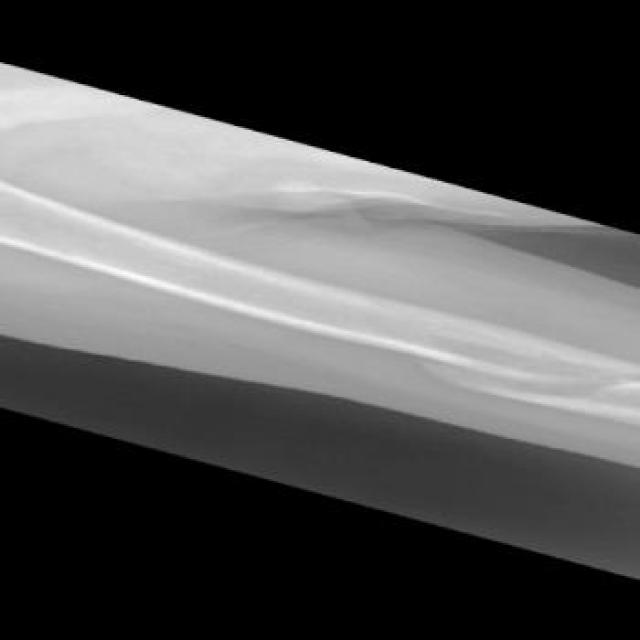Fracture: (397, 351, 544, 399)
